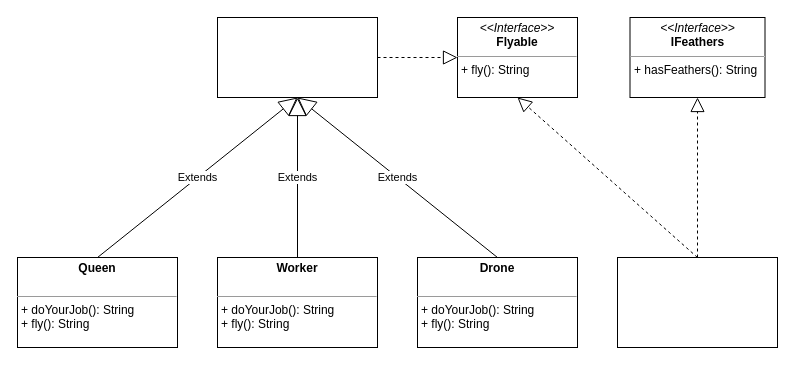
This 795x365 diagram has some shape labels left out. The shapes that lost their labels are listed below. From the top down, each one's centre as x and y in pixels, then its label:
[297,57]: << abstract >> HoneyBee + doYourJob(): String
[697,302]: Bird + hasFeathers(): String + fly(): String
